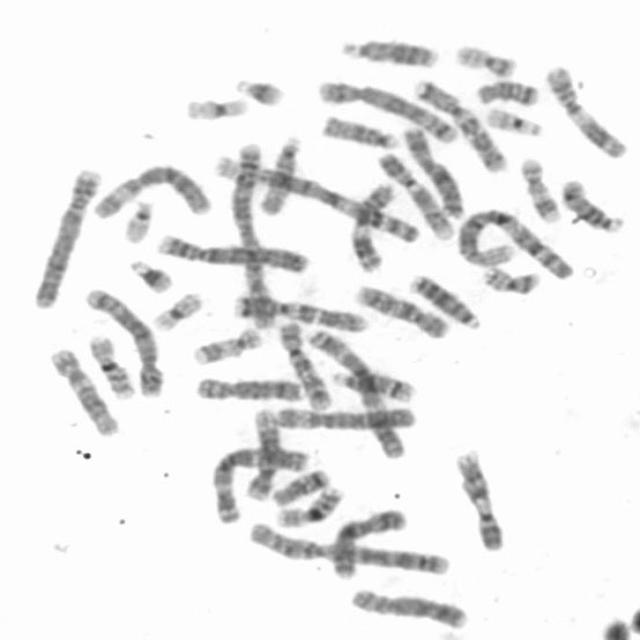A1: (208, 153, 424, 245), (452, 201, 576, 281)
A2: (240, 516, 452, 577), (222, 138, 281, 332)
A3: (302, 324, 408, 460), (207, 439, 313, 525)
B4: (27, 162, 102, 310), (151, 226, 312, 275)
B5: (312, 74, 463, 144), (81, 282, 167, 398)
C10: (349, 278, 453, 341), (274, 316, 335, 412)
C11: (540, 58, 633, 160), (344, 177, 400, 273)
C12: (45, 342, 123, 438), (239, 402, 281, 502)
C6: (88, 159, 214, 222), (269, 398, 423, 433)
C7: (408, 72, 513, 174), (228, 289, 372, 334)
C8: (346, 582, 472, 631), (190, 371, 306, 403)
C9: (372, 148, 457, 242), (451, 444, 508, 552)
D13: (404, 268, 486, 331), (336, 31, 443, 70)
D14: (556, 173, 627, 234), (328, 365, 419, 404)
D15: (255, 128, 306, 218), (317, 108, 403, 151)
E16: (83, 328, 139, 401), (272, 479, 348, 529)
E17: (186, 322, 265, 367), (515, 152, 564, 224)
E18: (267, 463, 333, 507), (470, 73, 542, 108)
F19: (147, 286, 206, 333), (179, 90, 252, 122)
F20: (449, 37, 520, 79), (477, 261, 543, 295)
G21: (229, 71, 289, 107), (124, 253, 176, 294)
G22: (481, 101, 546, 138), (117, 194, 156, 245)
X: (397, 120, 468, 220), (326, 500, 411, 580)
